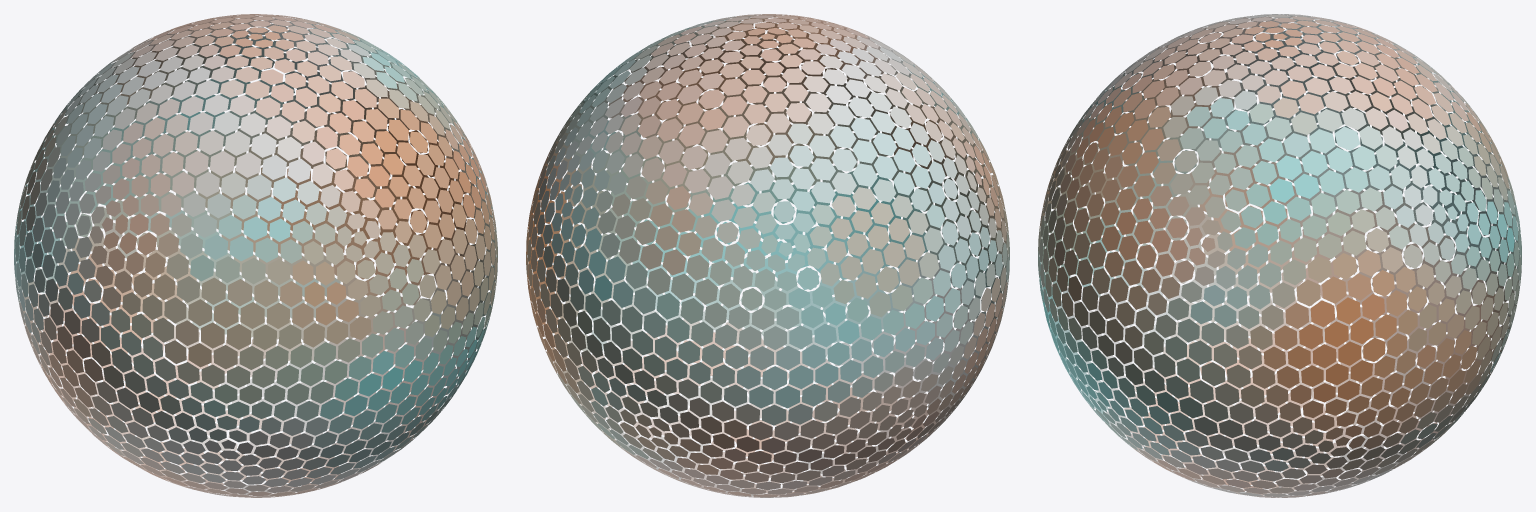
File: mass_titan.fbx
3 views of the same model, side by side, from view 1: azimuth 30°, elevation 25°; view 2: azimuth 150°, elevation 25°; view 3: azimuth 270°, elevation 25° (orthographic).
Visible parts, largest first — view 1: mass_titan; view 2: mass_titan; view 3: mass_titan.
Boxes of the visible parts, bbox=[...] form: mass_titan: bbox=[14, 14, 497, 497]; mass_titan: bbox=[526, 14, 1009, 497]; mass_titan: bbox=[1038, 14, 1521, 497].
Bounding box in the file's own units: 209 × 209 × 209.
